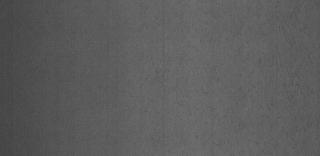silk spot: (173, 5, 311, 147)
